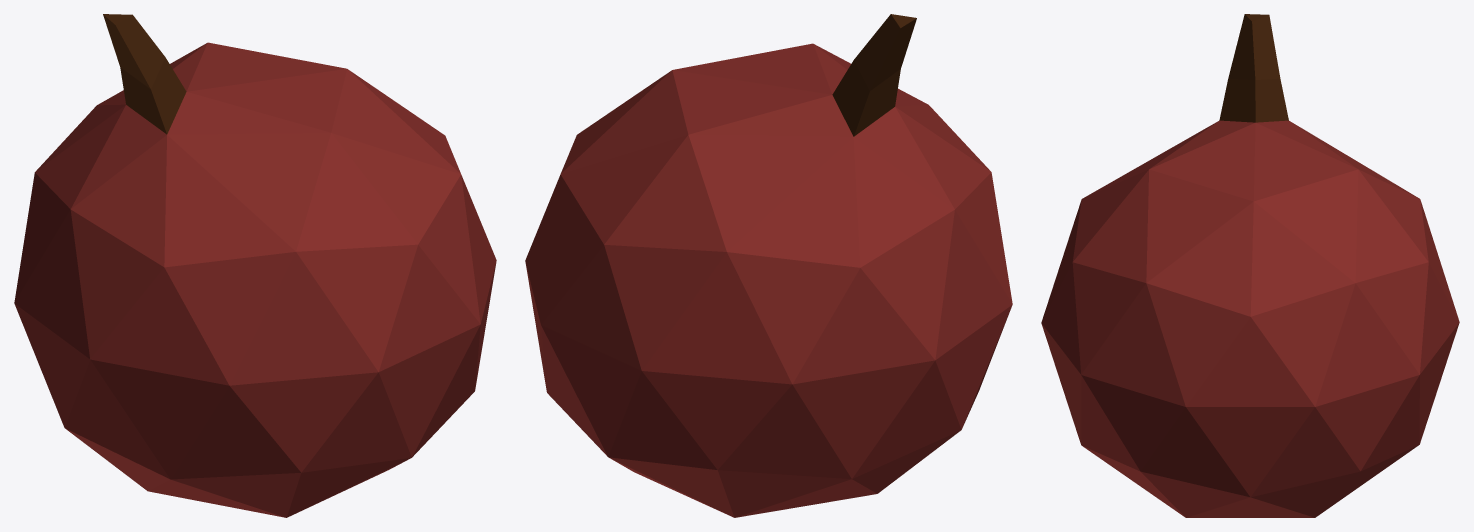
The model's file is Apple.fbx.
3 renders of one model, left to right at view 1: azimuth 30°, elevation 25°; view 2: azimuth 150°, elevation 25°; view 3: azimuth 270°, elevation 25°, orthographic. The views are drawn at different scales.
Visible parts, largest first — view 1: Icosphere; view 2: Icosphere; view 3: Icosphere.
Boxes of the visible parts, x1,y1,x2,y2 form: Icosphere: [14, 14, 496, 517]; Icosphere: [525, 14, 1012, 517]; Icosphere: [1041, 14, 1459, 517].
Bounding box in the file's own units: 122 × 145 × 128.
